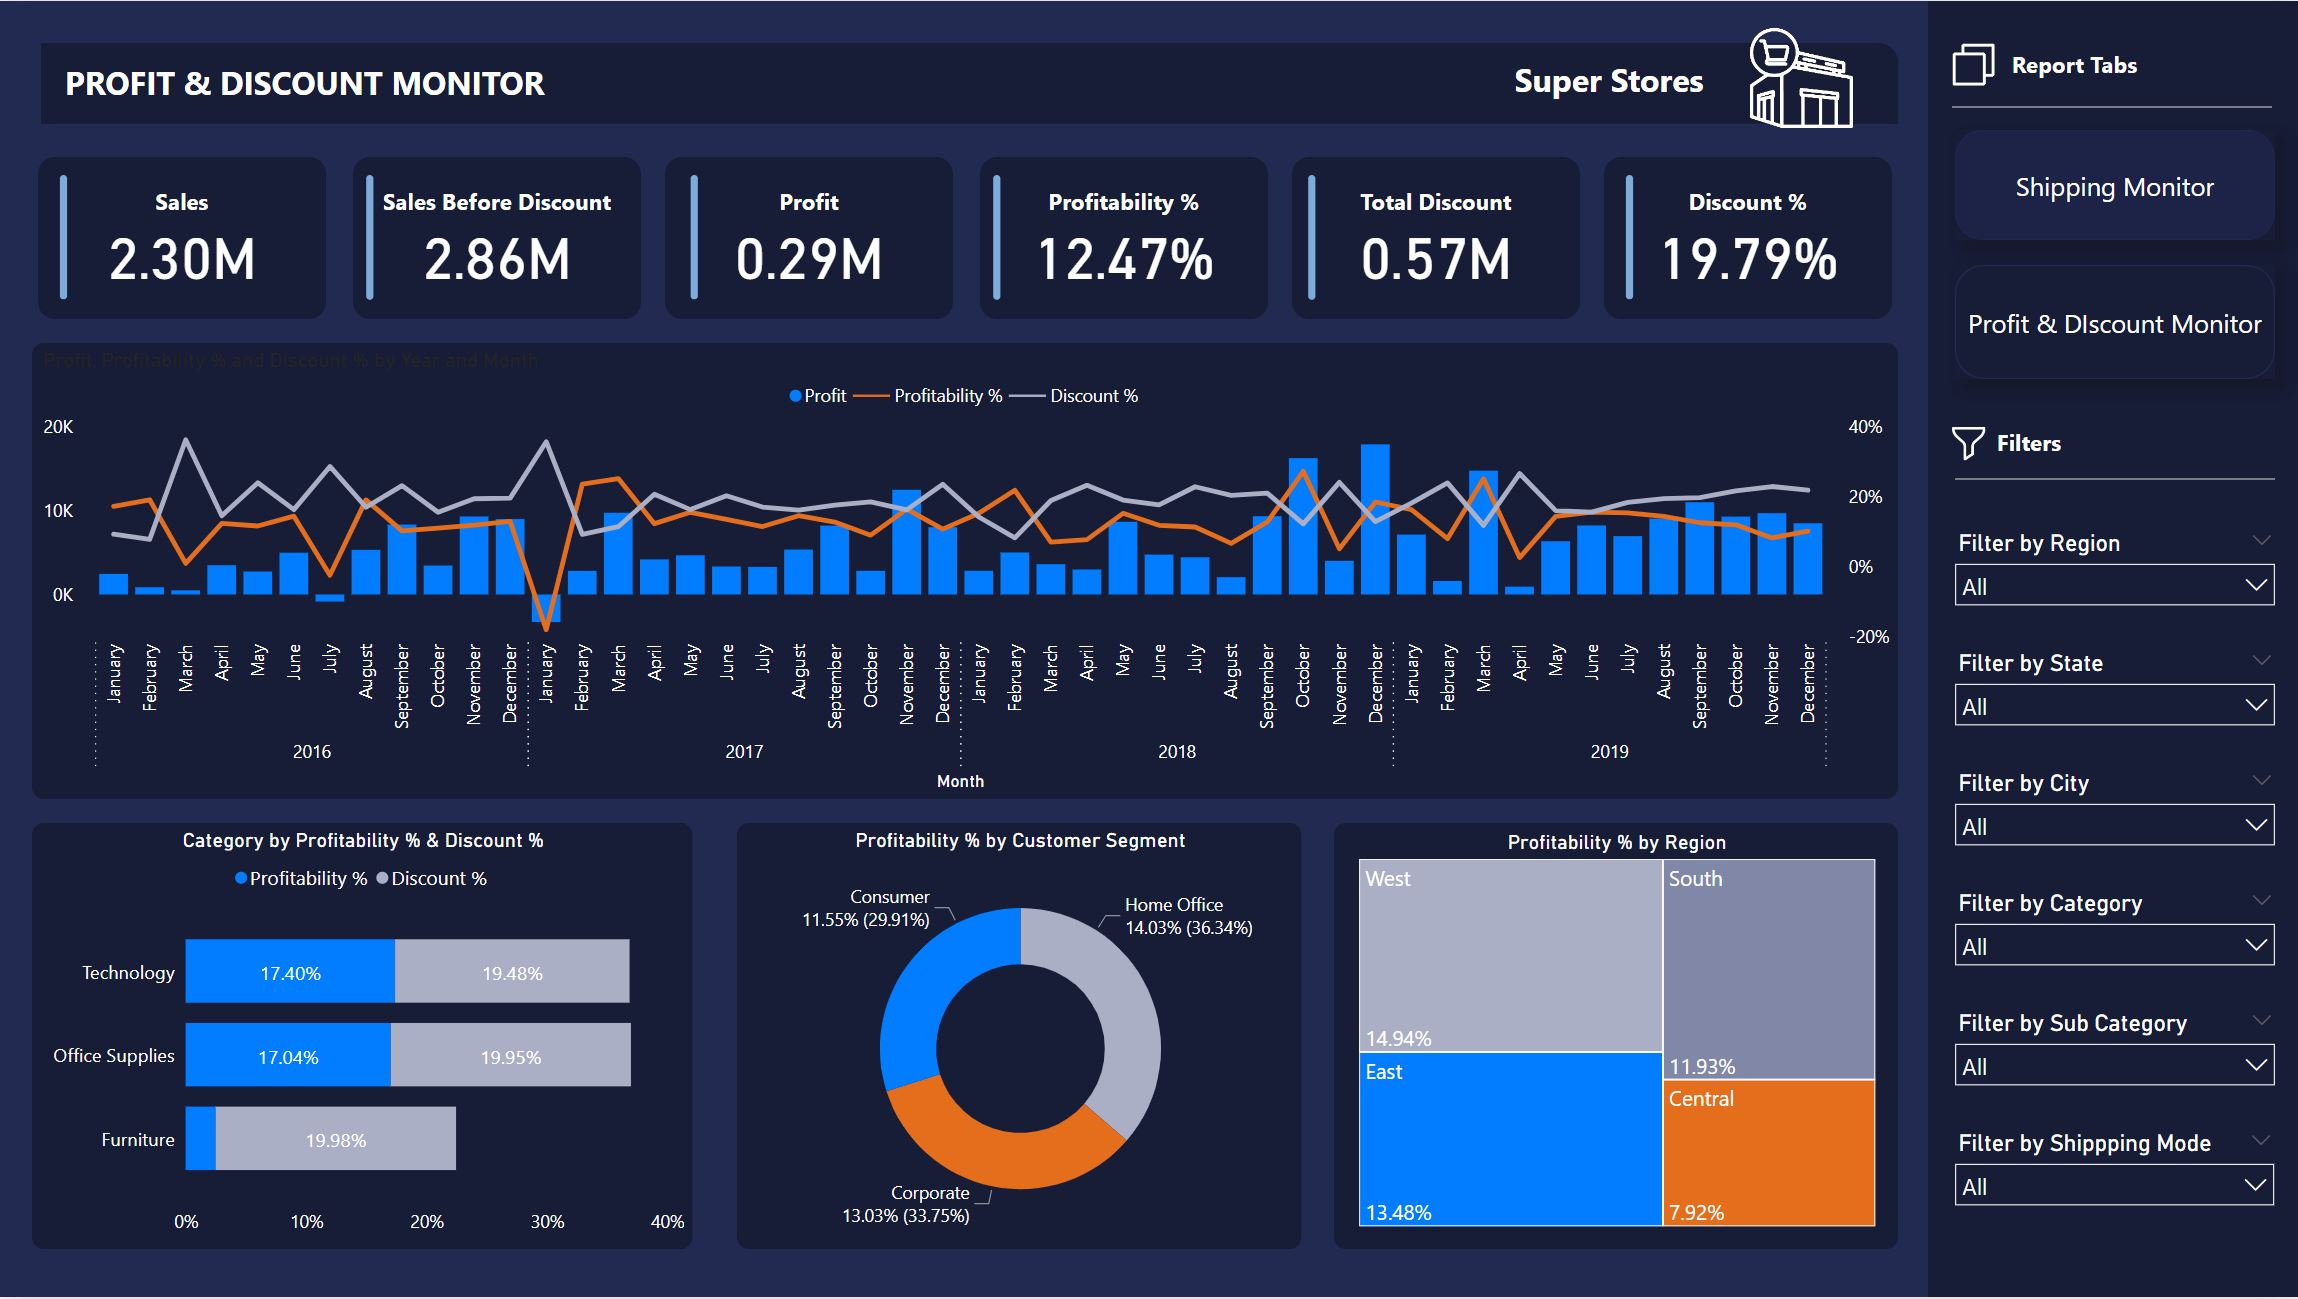

Layout of this report page (visuals, bound fields, positions):
{"tool":"powerbi","page":{"name":"Profit & DIscount Monitor","canvas":[1920,1080],"ordinal":0},"visuals":[{"type":"shape","box":[1610,0,310,1080],"z":0,"group":"g2"},{"type":"shape","box":[38.3,35.3,1547.9,67.5],"z":0,"group":"g3"},{"type":"slicer","fields":{"Values":["Orders.City"]},"box":[1622.5,634.6,286.7,90],"z":0,"group":"g1"},{"type":"treemap","title":"Profitability % by Region","fields":{"Group":["Orders.Region"],"Values":["Key Measures.Profitability %"]},"box":[1115.4,685.4,470,355],"z":0},{"type":"textbox","box":[54.2,45.4,461.2,56.2],"z":1000,"group":"g3"},{"type":"shape","box":[1631.7,220,266.7,95],"z":1000,"group":"g2"},{"type":"slicer","fields":{"Values":["Orders.State"]},"box":[1622.5,534.8,286.7,90],"z":1000,"group":"g1"},{"type":"donutChart","fields":{"Category":["Orders.Segment"],"Y":["Key Measures.Profitability %"]},"box":[617,685,470.4,355],"z":1000},{"type":"image","box":[1452.4,14.9,103.6,98.6],"z":2000,"group":"g3"},{"type":"shape","box":[1631.7,106.7,266.7,91.7],"z":2000,"group":"g2"},{"type":"barChart","title":"Category by Profitability % & Discount %","fields":{"Category":["Orders.Category"],"Y":["Key Measures.Profitability %","Key Measures.Discount %"]},"box":[31.2,685,550.3,355],"z":2000},{"type":"slicer","fields":{"Values":["Orders.Ship Mode"]},"box":[1622.8,934,286,88],"z":2000,"group":"g1"},{"type":"image","box":[1622.2,22.2,51.1,61.1],"z":3000,"group":"g2"},{"type":"textbox","box":[1231.2,43.6,198,58],"z":3000,"group":"g3"},{"type":"lineClusteredColumnComboChart","fields":{"Category":["Orders.Order Date.Variation.Date Hierarchy.Year","Orders.Order Date.Variation.Date Hierarchy.Month"],"Y":["Sum(Orders.Profit)"],"Y2":["Key Measures.Profitability %","Key Measures.Discount %"]},"box":[31.2,283.9,1555,379.9],"z":3000},{"type":"slicer","fields":{"Values":["Orders.Region"]},"box":[1622.5,435,286.7,90],"z":3000,"group":"g1"},{"type":"cardVisual","fields":{"Data":["Sum(Orders.Profit)"]},"box":[553.1,124,250,145],"z":4000},{"type":"image","box":[1625.9,350.4,37.5,37.5],"z":4000,"group":"g2"},{"type":"slicer","fields":{"Values":["Orders.Category"]},"box":[1622.5,734.4,286.7,90],"z":4000,"group":"g1"},{"type":"textbox","box":[1674,36,190,40],"z":5000,"group":"g2"},{"type":"cardVisual","title":"Sales","fields":{"Data":["Sum(Orders.Sales)"]},"box":[31.2,124,250,145],"z":5000},{"type":"slicer","fields":{"Values":["Orders.Sub-Category"]},"box":[1622.5,834.2,286.7,90],"z":5000,"group":"g1"},{"type":"cardVisual","fields":{"Data":["Key Measures.Profitability %"]},"box":[813.9,124,250,145],"z":6000},{"type":"textbox","box":[1663.3,350,103.3,38.3],"z":6000,"group":"g2"},{"type":"cardVisual","fields":{"Data":["Key Measures.Total Discount"]},"box":[1074.8,124,250,145],"z":7000},{"type":"shape","box":[1632.2,378.9,266.7,36.7],"z":7000,"group":"g2"},{"type":"cardVisual","fields":{"Data":["Key Measures.Discount %"]},"box":[1335.6,124,250,145],"z":8000},{"type":"group","id":"g1","title":"Slicers Grouped","box":[1622.5,435,287.5,587.5],"z":8000,"group":"g2"},{"type":"shape","box":[1631.1,68.9,266.7,36.7],"z":9000,"group":"g2"},{"type":"cardVisual","fields":{"Data":["Key Measures.Sales Before Discount"]},"box":[292,124,250.3,145],"z":9000},{"type":"group","id":"g2","title":"Side Filter Pane","box":[1610,0,310,1080],"z":10000},{"type":"group","id":"g3","title":"Header Pane","box":[38.3,14.9,1547.9,98.6],"z":11000},{"type":"shape","box":[37.5,145,37.5,103.8],"z":12000},{"type":"shape","box":[292,144.5,38,104],"z":13000},{"type":"shape","box":[561.2,145,38.8,103.8],"z":14000},{"type":"shape","box":[814,144.5,38,104],"z":15000},{"type":"shape","box":[1078,144.5,38,104],"z":16000},{"type":"shape","box":[1342.5,145,37.5,103.8],"z":17000}]}

Visuals, with their boxes on the page's 1920x1080 design canvas (x1, y1, x2, y2). These are canvas units, not pixel positions in the 2298x1299 screenshot, which may show the page scaled, cropped or inside an application window:
shape: bbox=[1610, 0, 1920, 1080]
shape: bbox=[38, 35, 1586, 103]
slicer - Orders.City: bbox=[1622, 635, 1909, 725]
"Profitability % by Region" treemap: bbox=[1115, 685, 1585, 1040]
textbox: bbox=[54, 45, 515, 102]
shape: bbox=[1632, 220, 1898, 315]
slicer - Orders.State: bbox=[1622, 535, 1909, 625]
donutChart - Orders.Segment x Key Measures.Profitability %: bbox=[617, 685, 1087, 1040]
image: bbox=[1452, 15, 1556, 114]
shape: bbox=[1632, 107, 1898, 198]
"Category by Profitability % & Discount %" barChart: bbox=[31, 685, 582, 1040]
slicer - Orders.Ship Mode: bbox=[1623, 934, 1909, 1022]
image: bbox=[1622, 22, 1673, 83]
textbox: bbox=[1231, 44, 1429, 102]
lineClusteredColumnComboChart - Orders.Order Date.Variation.Date Hierarchy.Year x Orders.Order Date.Variation.Date Hierarchy.Month: bbox=[31, 284, 1586, 664]
slicer - Orders.Region: bbox=[1622, 435, 1909, 525]
cardVisual - Sum(Orders.Profit): bbox=[553, 124, 803, 269]
image: bbox=[1626, 350, 1663, 388]
slicer - Orders.Category: bbox=[1622, 734, 1909, 824]
textbox: bbox=[1674, 36, 1864, 76]
"Sales" cardVisual: bbox=[31, 124, 281, 269]
slicer - Orders.Sub-Category: bbox=[1622, 834, 1909, 924]
cardVisual - Key Measures.Profitability %: bbox=[814, 124, 1064, 269]
textbox: bbox=[1663, 350, 1767, 388]
cardVisual - Key Measures.Total Discount: bbox=[1075, 124, 1325, 269]
shape: bbox=[1632, 379, 1899, 416]
cardVisual - Key Measures.Discount %: bbox=[1336, 124, 1586, 269]
"Slicers Grouped" group: bbox=[1622, 435, 1910, 1022]
shape: bbox=[1631, 69, 1898, 106]
cardVisual - Key Measures.Sales Before Discount: bbox=[292, 124, 542, 269]
"Side Filter Pane" group: bbox=[1610, 0, 1920, 1080]
"Header Pane" group: bbox=[38, 15, 1586, 114]
shape: bbox=[38, 145, 75, 249]
shape: bbox=[292, 144, 330, 248]
shape: bbox=[561, 145, 600, 249]
shape: bbox=[814, 144, 852, 248]
shape: bbox=[1078, 144, 1116, 248]
shape: bbox=[1342, 145, 1380, 249]
